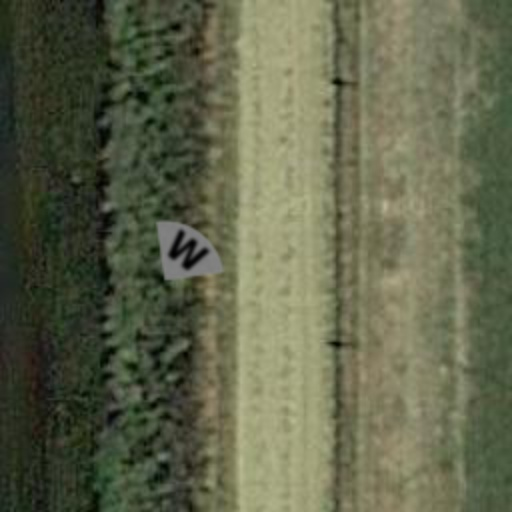quarter_circle: (130, 196, 242, 308)
